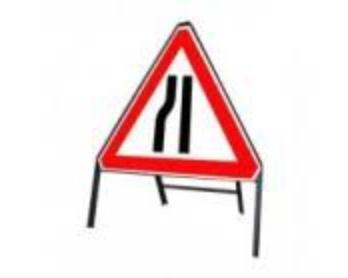narrow_road: (98, 18, 264, 186)
